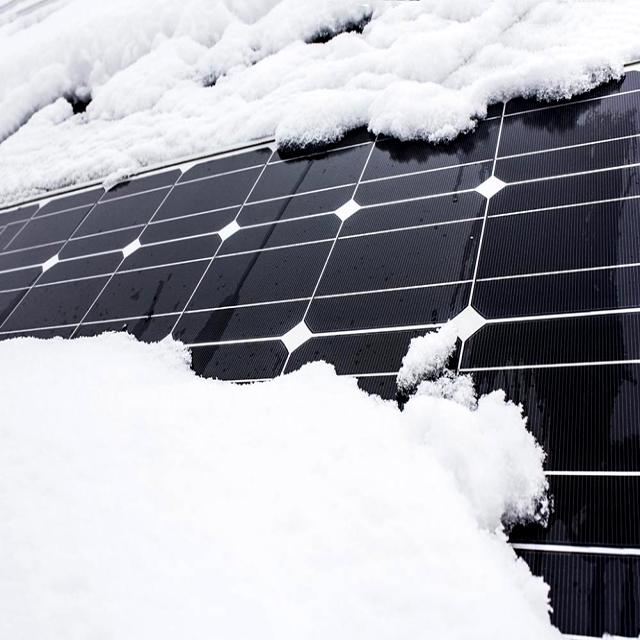panel: (0, 461, 352, 640), (373, 54, 528, 144), (494, 378, 568, 547), (274, 332, 402, 428), (119, 316, 249, 406), (472, 548, 598, 640), (7, 304, 107, 394), (416, 320, 488, 440), (251, 92, 373, 160), (86, 113, 227, 169), (524, 46, 633, 116), (0, 138, 102, 204)
